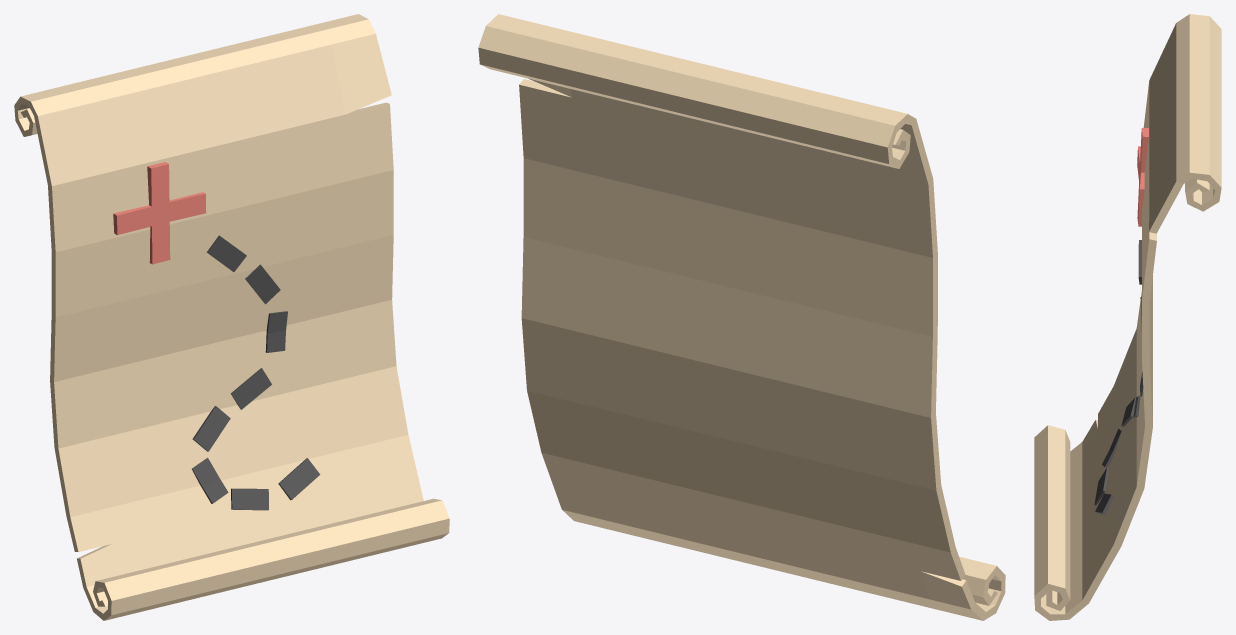
The model's file is treasure_map.glb.
3 views of the same model, side by side, from view 1: azimuth 30°, elevation 25°; view 2: azimuth 150°, elevation 25°; view 3: azimuth 270°, elevation 25° (orthographic). The views are drawn at different scales.
Visible parts, largest first — view 1: VR_Map_Cube.029; view 2: VR_Map_Cube.029; view 3: VR_Map_Cube.029.
Boxes of the visible parts, x1=… form: VR_Map_Cube.029: x1=14, y1=14, x2=449, y2=620; VR_Map_Cube.029: x1=478, y1=14, x2=1005, y2=620; VR_Map_Cube.029: x1=1034, y1=14, x2=1221, y2=620.
Size of the model in its own units: 7.59 by 9.94 by 3.77.
